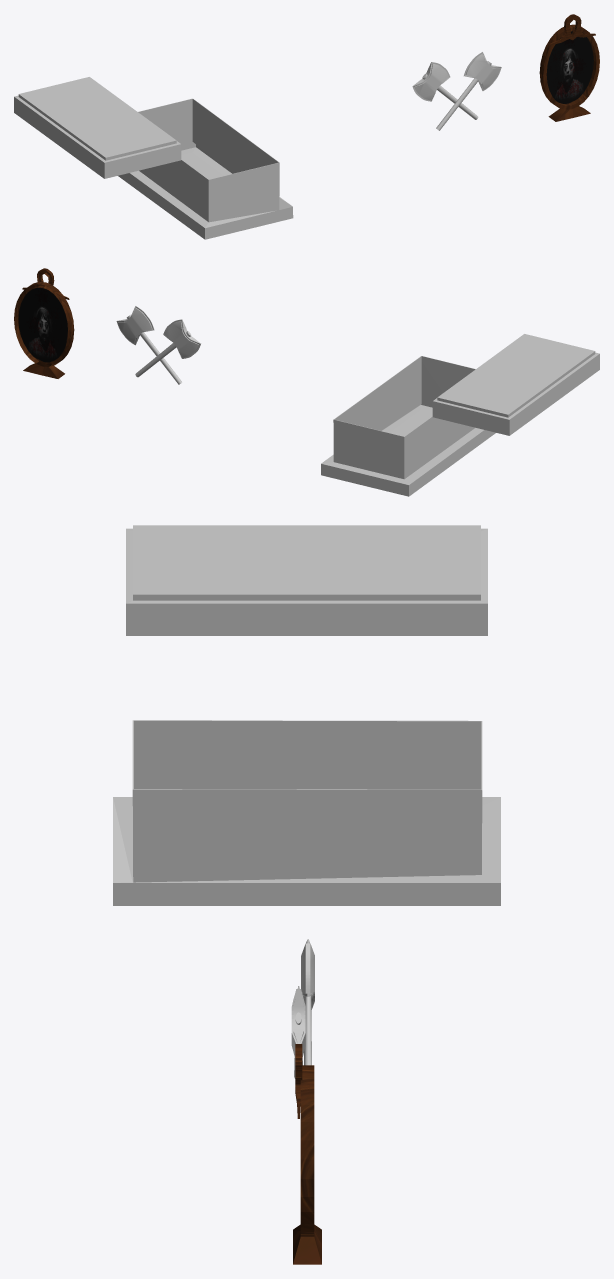
File: assets.FBX
3 views of the same model, one above another, from view 1: azimuth 30°, elevation 25°; view 2: azimuth 150°, elevation 25°; view 3: azimuth 270°, elevation 25° (orthographic). The views are drawn at different scales.
Visible parts, largest first — view 1: takip, Object004, Egg001, Object003, Object001; view 2: takip, Object004, Egg001, Object001, Object003; view 3: takip, Object004, Egg001, Object001.
Part boxes in pixels (bbox=[...]): takip: bbox=[118, 98, 293, 239]; Object004: bbox=[14, 77, 181, 178]; Egg001: bbox=[539, 14, 599, 121]; Object003: bbox=[436, 52, 501, 130]; Object001: bbox=[412, 62, 478, 119]; takip: bbox=[321, 356, 495, 496]; Object004: bbox=[432, 334, 599, 435]; Egg001: bbox=[14, 268, 74, 378]; Object001: bbox=[135, 319, 200, 377]; Object003: bbox=[116, 306, 181, 384]; takip: bbox=[113, 720, 500, 905]; Object004: bbox=[126, 525, 487, 635]; Egg001: bbox=[293, 1044, 321, 1264]; Object001: bbox=[301, 939, 314, 1065].
Bounding box in the file's own units: 1614 × 324 × 503.
